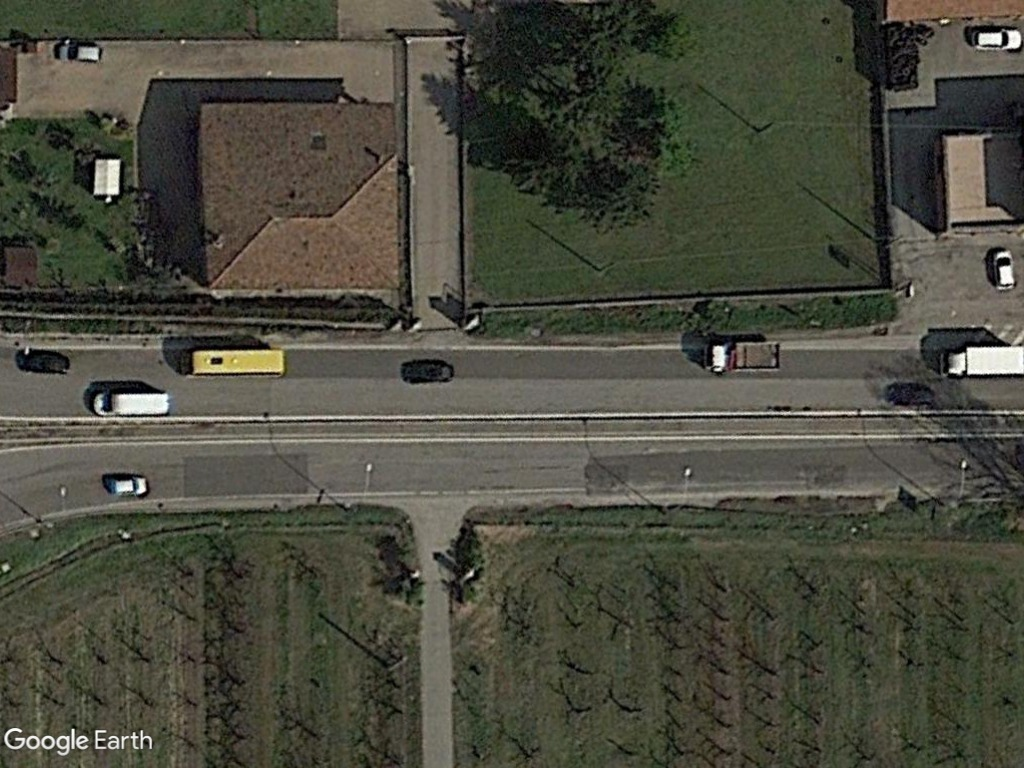bus: (177, 347, 290, 378)
car: (966, 22, 1024, 54), (986, 246, 1019, 294), (52, 40, 105, 65), (104, 473, 152, 499)
truck: (698, 336, 788, 378), (938, 341, 1024, 382)
van: (90, 389, 174, 420)
